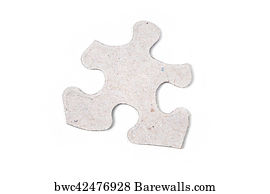puzzle piece: (50, 13, 210, 156)
